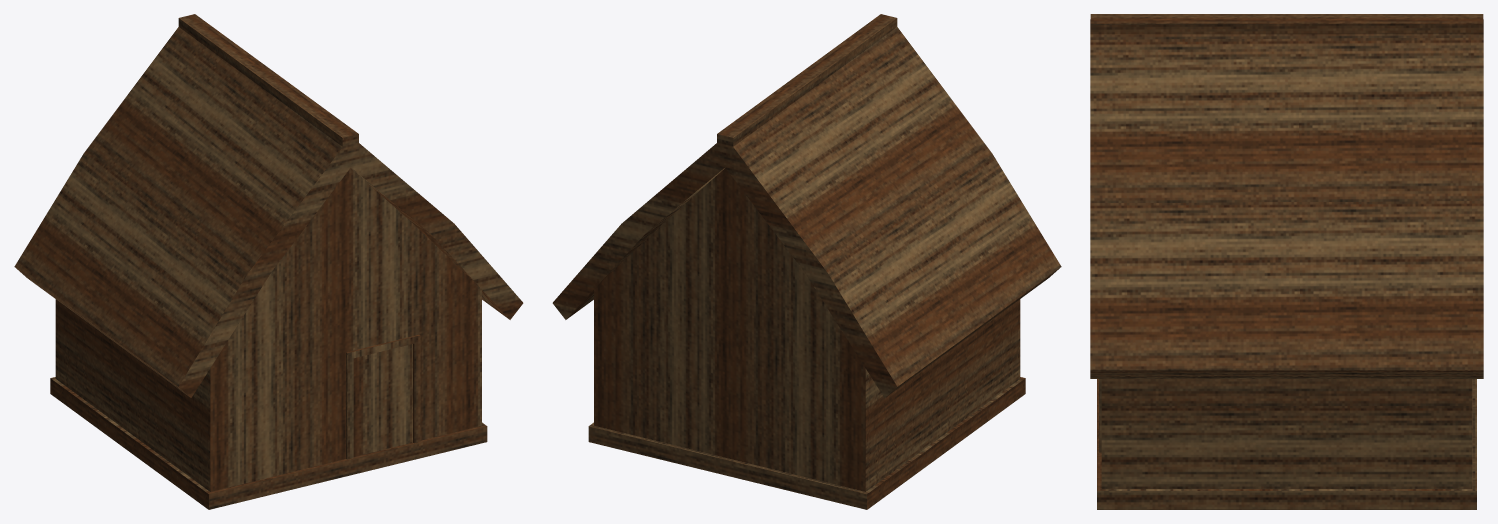
Rendered from Casa2.fbx.
3 renders of one model, left to right at view 1: azimuth 30°, elevation 25°; view 2: azimuth 150°, elevation 25°; view 3: azimuth 270°, elevation 25°, orthographic. The views are drawn at different scales.
Visible parts, largest first — view 1: polySurface115; view 2: polySurface115; view 3: polySurface115.
Boxes of the visible parts, <box> form: polySurface115: <box>14,14,523,509</box>; polySurface115: <box>552,14,1061,509</box>; polySurface115: <box>1090,14,1483,509</box>.
Size of the model in its own units: 7.1 by 6.72 by 5.85.
Materials: 5 (5 with a texture image).
